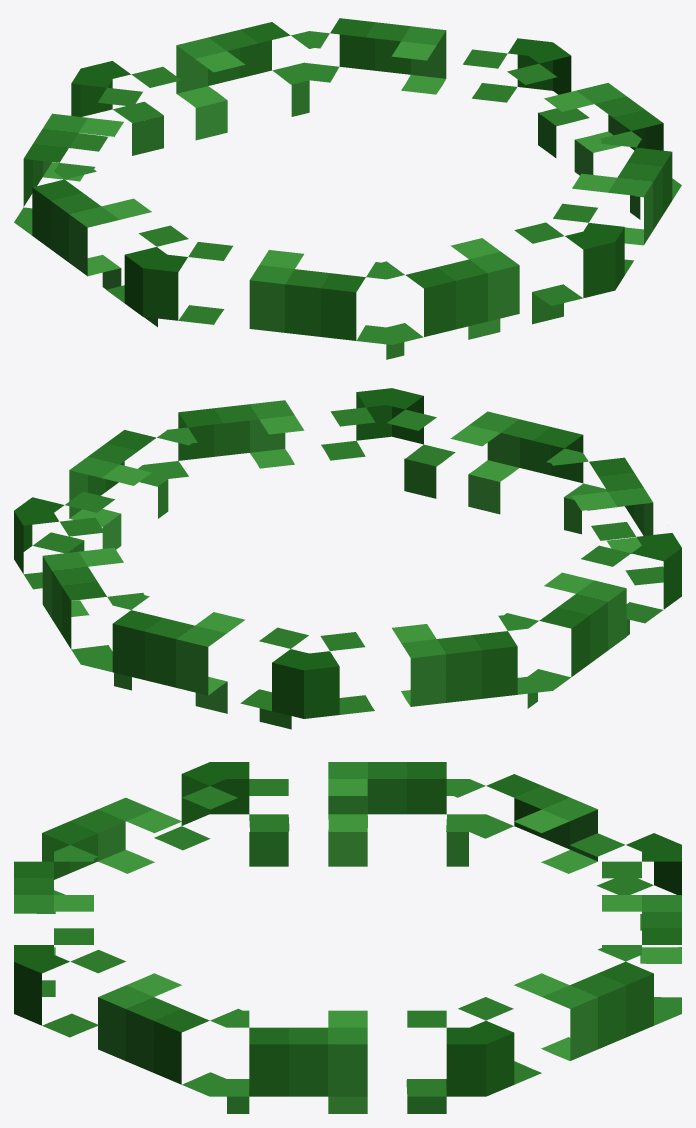
Rendered from boss_trophy_fey_summer_1.obj.
3 views of the same model, one above another, from view 1: azimuth 30°, elevation 25°; view 2: azimuth 150°, elevation 25°; view 3: azimuth 270°, elevation 25° (orthographic). The views are drawn at different scales.
Parts seen in each view (by area): view 1: BOSS_TROPHY_FEY_SUMMER_1_Plane.013; view 2: BOSS_TROPHY_FEY_SUMMER_1_Plane.013; view 3: BOSS_TROPHY_FEY_SUMMER_1_Plane.013.
Boxes of the visible parts, <box> form: BOSS_TROPHY_FEY_SUMMER_1_Plane.013: <box>14,18,681,359</box>; BOSS_TROPHY_FEY_SUMMER_1_Plane.013: <box>14,388,681,729</box>; BOSS_TROPHY_FEY_SUMMER_1_Plane.013: <box>14,762,681,1113</box>.
Size of the model in its own units: 1.09 by 0.1562 by 1.09.
